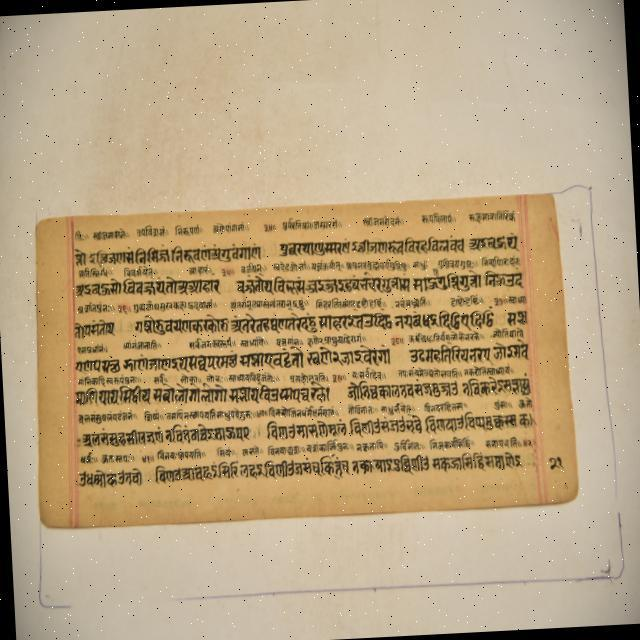text_paragraph: (38, 191, 577, 524)
